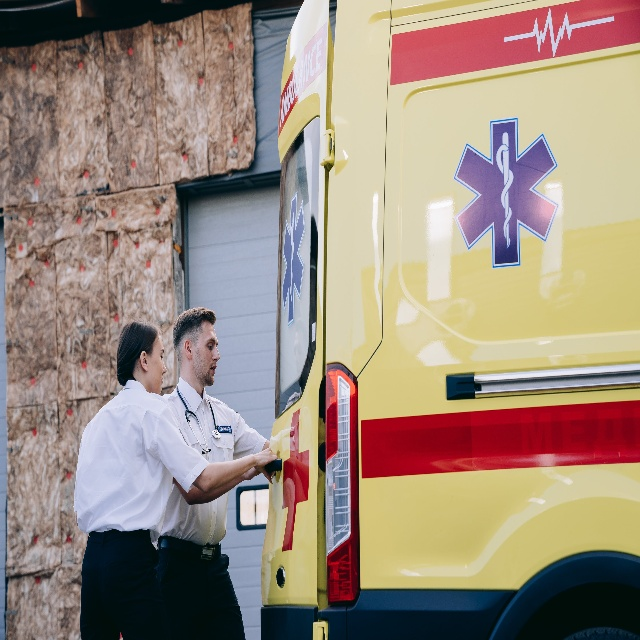Sin_guantes: (256, 449, 276, 484)
